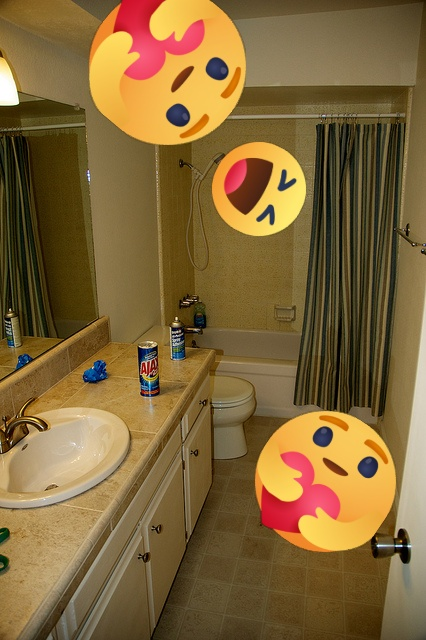care: (89, 0, 246, 145), (255, 411, 396, 552)
haha: (212, 142, 306, 236)
